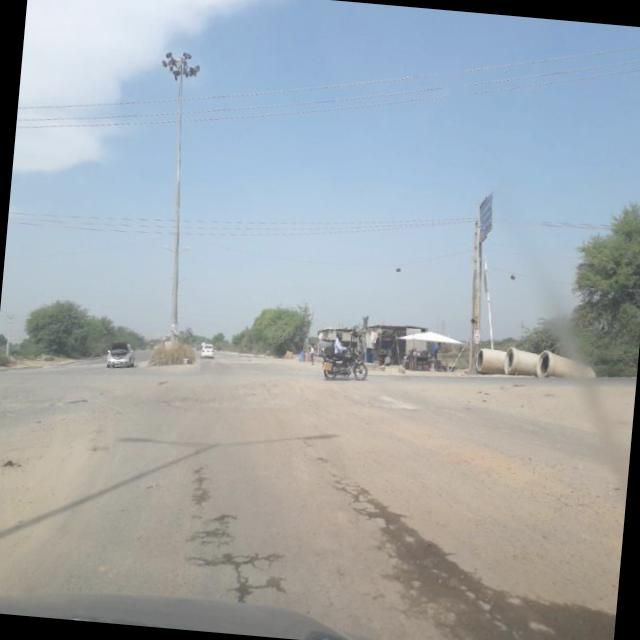crack: (318, 462, 400, 525)
pothole: (163, 462, 301, 615)
